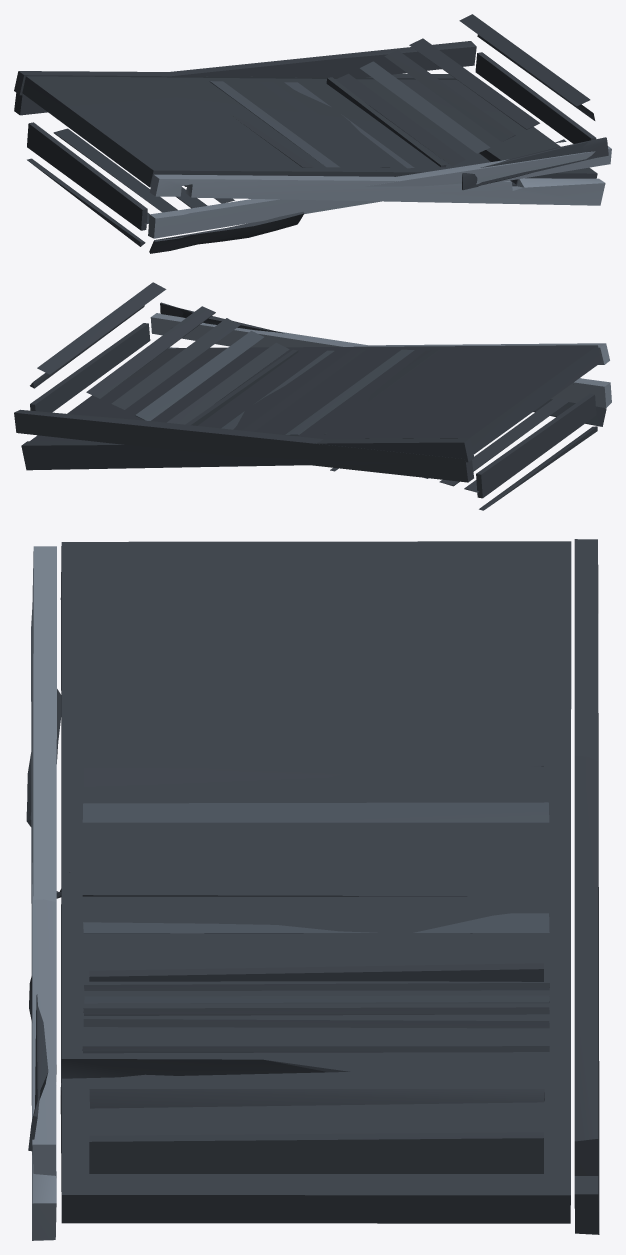
Rendered from shr_deb_generic_platform_composite_b.glb.
3 views of the same model, one above another, from view 1: azimuth 30°, elevation 25°; view 2: azimuth 150°, elevation 25°; view 3: azimuth 270°, elevation 25° (orthographic). The views are drawn at different scales.
Visible parts, largest first — view 1: frag_04, husk, frag_05, frag_03, frag_01, frag_02; view 2: frag_04, husk, frag_05, frag_03, frag_02, frag_01; view 3: frag_04, husk, frag_05, frag_02.
Part boxes in pixels (box(x1,y1,x2,y2)): frag_04: box(14, 71, 605, 205); husk: box(14, 41, 611, 238); frag_05: box(335, 14, 595, 166); frag_03: box(27, 128, 234, 246); frag_01: box(149, 211, 304, 253); frag_02: box(462, 137, 608, 190); frag_04: box(21, 343, 609, 470); husk: box(14, 313, 611, 498); frag_05: box(30, 282, 289, 424); frag_03: box(330, 397, 597, 510); frag_02: box(160, 302, 284, 333); frag_01: box(533, 399, 606, 426); frag_04: box(31, 539, 599, 1240); husk: box(32, 614, 598, 1175); frag_05: box(82, 983, 549, 1108); frag_02: box(28, 975, 48, 1151).
Size of the model in its own units: 2.2 by 0.6338 by 1.2.
